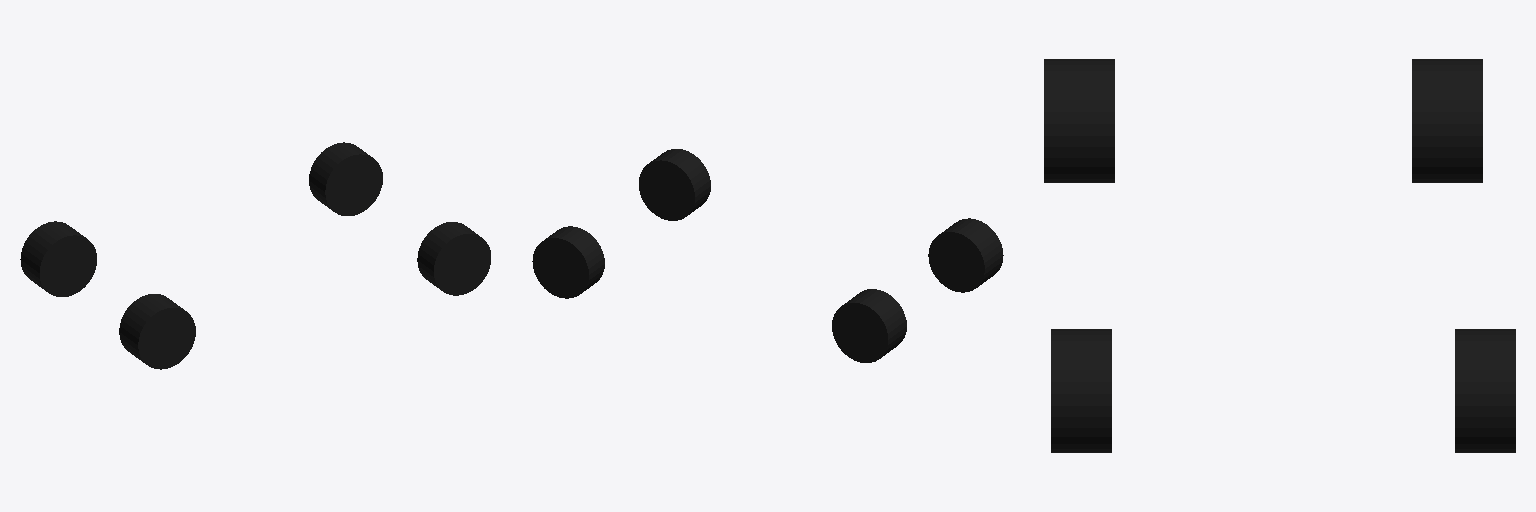
robot.urdf — R1:
<?xml version="1.0" encoding="utf-8"?>
<!-- This URDF was automatically created by SolidWorks to URDF Exporter and then extended for ROS/Gazebo simulation. -->
<robot name="R1">
  <link name="base_link">
    <inertial>
      <origin xyz="0.02 0.0 0.12" rpy="0 0 0" />
      <mass value="38.0603057004842" />
      <inertia
        ixx="0.70"
        ixy="0.0"
        ixz="0.0"
        iyy="1.10"
        iyz="0.0"
        izz="0.95" />
    </inertial>
    <visual>
      <origin xyz="0 0 0" rpy="0 0 3.14159265359" />
      <geometry>
        <mesh filename="package://zebrat/urdf/meshes/base_link.stl" />
      </geometry>
      <material name="">
        <color rgba="0.792156862745098 0.819607843137255 0.933333333333333 1" />
      </material>
    </visual>
    <collision>
      <origin xyz="0.02 0 0.17" rpy="0 0 0" />
      <geometry>
        <box size="0.50 0.16 0.22" />
      </geometry>
    </collision>
  </link>

  <link name="front_left_steering_link">
    <inertial>
      <origin xyz="0 0 -0.020375" rpy="0 0 0" />
      <mass value="0.30" />
      <inertia ixx="2e-4" ixy="0" ixz="0" iyy="2e-4" iyz="0" izz="2e-4" />
    </inertial>
  </link>

  <link name="front_right_steering_link">
    <inertial>
      <origin xyz="0 0 -0.020375" rpy="0 0 0" />
      <mass value="0.30" />
      <inertia ixx="2e-4" ixy="0" ixz="0" iyy="2e-4" iyz="0" izz="2e-4" />
    </inertial>
  </link>

  <link name="Empty_Link1">
    <inertial>
      <origin xyz="0 0 0" rpy="0 0 0" />
      <mass value="0.102007563940439" />
      <inertia
        ixx="6.03197633111551E-05"
        ixy="-1.09650777535302E-10"
        ixz="7.71132214702415E-10"
        iyy="9.37857965039355E-05"
        iyz="9.81331506021422E-10"
        izz="6.03194335121187E-05" />
    </inertial>
    <visual>
      <origin xyz="0 0 0" rpy="1.57079632679 0 0" />
      <geometry>
        <cylinder radius="0.04075" length="0.040" />
      </geometry>
      <material name="">
        <color rgba="0.152941176470588 0.152941176470588 0.152941176470588 1" />
      </material>
    </visual>
    <collision>
      <origin xyz="0 0 0" rpy="1.57079632679 0 0" />
      <geometry>
        <cylinder radius="0.04075" length="0.040" />
      </geometry>
    </collision>
  </link>

  <joint name="front_left_steering_joint" type="revolute">
    <origin xyz="0.220127909860013 0.142085316479216 0.04075" rpy="0 0 0" />
    <parent link="base_link" />
    <child link="front_left_steering_link" />
    <axis xyz="0 0 1" />
    <limit lower="-0.6" upper="0.6" effort="30" velocity="4" />
    <dynamics damping="3.0" friction="0.2" />
  </joint>

  <joint name="front_left_wheel_joint" type="continuous">
    <origin xyz="0 0 -0.04075" rpy="0 0 0" />
    <parent link="front_left_steering_link" />
    <child link="Empty_Link1" />
    <axis xyz="0 1 0" />
    <limit effort="30" velocity="60" />
    <dynamics damping="0.50" friction="0.02" />
  </joint>

  <link name="Empty_Link2">
    <inertial>
      <origin xyz="0 0 0" rpy="0 0 0" />
      <mass value="0.102007476255524" />
      <inertia
        ixx="6.03196775650763E-05"
        ixy="-1.30454716001587E-10"
        ixz="8.2130239199344E-10"
        iyy="9.37857280988688E-05"
        iyz="9.77509097955072E-10"
        izz="6.03194264639649E-05" />
    </inertial>
    <visual>
      <origin xyz="0 0 0" rpy="1.57079632679 0 0" />
      <geometry>
        <cylinder radius="0.04075" length="0.040" />
      </geometry>
      <material name="">
        <color rgba="0.152941176470588 0.152941176470588 0.152941176470588 1" />
      </material>
    </visual>
    <collision>
      <origin xyz="0 0 0" rpy="1.57079632679 0 0" />
      <geometry>
        <cylinder radius="0.04075" length="0.040" />
      </geometry>
    </collision>
  </link>

  <joint name="front_right_steering_joint" type="revolute">
    <origin xyz="0.220127909860013 -0.122535316479216 0.04075" rpy="0 0 0" />
    <parent link="base_link" />
    <child link="front_right_steering_link" />
    <axis xyz="0 0 1" />
    <limit lower="-0.6" upper="0.6" effort="30" velocity="4" />
    <dynamics damping="3.0" friction="0.2" />
  </joint>

  <joint name="front_right_wheel_joint" type="continuous">
    <origin xyz="0 0 -0.04075" rpy="0 0 0" />
    <parent link="front_right_steering_link" />
    <child link="Empty_Link2" />
    <axis xyz="0 -1 0" />
    <limit effort="30" velocity="60" />
    <dynamics damping="0.50" friction="0.02" />
  </joint>

  <link name="Empty_Link3">
    <inertial>
      <origin xyz="3.76217621722574E-07 -0.00343116064614217 1.77734477486638E-07" rpy="0 0 0" />
      <mass value="0.130385211409052" />
      <inertia
        ixx="7.86812106003073E-05"
        ixy="5.53858346756479E-11"
        ixz="9.23581794342341E-08"
        iyy="0.000108048071855382"
        iyz="-1.15152881530515E-10"
        izz="7.82862361574103E-05" />
    </inertial>
    <visual>
      <origin xyz="0 -0.0010 0" rpy="1.57079632679 0 0" />
      <geometry>
        <cylinder radius="0.04075" length="0.0465" />
      </geometry>
      <material name="">
        <color rgba="0.152941176470588 0.152941176470588 0.152941176470588 1" />
      </material>
    </visual>
    <collision>
      <origin xyz="0 -0.0010 0" rpy="1.57079632679 0 0" />
      <geometry>
        <cylinder radius="0.04075" length="0.0465" />
      </geometry>
    </collision>
  </link>

  <joint name="rear_right_wheel_joint" type="continuous">
    <origin xyz="-0.19879978611665 -0.122535316479219 0.0" rpy="0 0 0" />
    <parent link="base_link" />
    <child link="Empty_Link3" />
    <axis xyz="0 -1 0" />
    <limit effort="20" velocity="20" />
    <dynamics damping="0.50" friction="0.02" />
  </joint>

  <link name="Empty_Link4">
    <inertial>
      <origin xyz="3.64091904681008E-07 0.000181544843160394 3.71723492477368E-07" rpy="0 0 0" />
      <mass value="0.130386181839137" />
      <inertia
        ixx="7.86817593166718E-05"
        ixy="7.73070482159629E-11"
        ixz="9.25265700656962E-08"
        iyy="0.00010804820646223"
        iyz="-1.16088106414147E-10"
        izz="7.82861601090754E-05" />
    </inertial>
    <visual>
      <origin xyz="0 -0.0020 0" rpy="1.57079632679 0 0" />
      <geometry>
        <cylinder radius="0.04075" length="0.0465" />
      </geometry>
      <material name="">
        <color rgba="0.152941176470588 0.152941176470588 0.152941176470588 1" />
      </material>
    </visual>
    <collision>
      <origin xyz="0 -0.0020 0" rpy="1.57079632679 0 0" />
      <geometry>
        <cylinder radius="0.04075" length="0.0465" />
      </geometry>
    </collision>
  </link>

  <joint name="rear_left_wheel_joint" type="continuous">
    <origin xyz="-0.19879978611665 0.119285316479219 0.0" rpy="0 0 0" />
    <parent link="base_link" />
    <child link="Empty_Link4" />
    <axis xyz="0 1 0" />
    <limit effort="20" velocity="20" />
    <dynamics damping="0.50" friction="0.02" />
  </joint>

  <link name="imu_link">
    <inertial>
      <origin xyz="0 0 0" rpy="0 0 0" />
      <mass value="0.01" />
      <inertia ixx="1e-5" ixy="0" ixz="0" iyy="1e-5" iyz="0" izz="1e-5" />
    </inertial>
  </link>

  <joint name="imu_joint" type="fixed">
    <origin xyz="0.02 0 0.22" rpy="0 0 0" />
    <parent link="base_link" />
    <child link="imu_link" />
  </joint>

  <link name="laser_link">
    <inertial>
      <origin xyz="0 0 0" rpy="0 0 0" />
      <mass value="0.05" />
      <inertia ixx="2e-5" ixy="0" ixz="0" iyy="2e-5" iyz="0" izz="2e-5" />
    </inertial>
  </link>

  <joint name="laser_joint" type="fixed">
    <origin xyz="0.34 0 0.36" rpy="0 0 0" />
    <parent link="base_link" />
    <child link="laser_link" />
  </joint>

  <link name="camera_link">
    <inertial>
      <origin xyz="0 0 0" rpy="0 0 0" />
      <mass value="0.05" />
      <inertia ixx="2e-5" ixy="0" ixz="0" iyy="2e-5" iyz="0" izz="2e-5" />
    </inertial>
  </link>

  <joint name="camera_joint" type="fixed">
    <origin xyz="0.30 0 0.28" rpy="0 0 0" />
    <parent link="base_link" />
    <child link="camera_link" />
  </joint>

  <link name="camera_optical_link" />

  <joint name="camera_optical_joint" type="fixed">
    <origin xyz="0 0 0" rpy="-1.57079632679 0 -1.57079632679" />
    <parent link="camera_link" />
    <child link="camera_optical_link" />
  </joint>

  <gazebo reference="base_link">
    <material>Gazebo/White</material>
    <mu1>0.8</mu1>
    <mu2>0.8</mu2>
    <slip1>0.10</slip1>
    <slip2>0.10</slip2>
    <kp>30000.0</kp>
    <kd>20.0</kd>
  </gazebo>

  <gazebo reference="front_left_steering_link">
    <material>Gazebo/Black</material>
  </gazebo>

  <gazebo reference="front_right_steering_link">
    <material>Gazebo/Black</material>
  </gazebo>

  <gazebo reference="Empty_Link1">
    <material>Gazebo/Black</material>
    <mu1>8.0</mu1>
    <mu2>8.0</mu2>
    <fdir1>1 0 0</fdir1>
    <slip1>0.0</slip1>
    <slip2>0.0</slip2>
    <kp>50000.0</kp>
    <kd>20.0</kd>
  </gazebo>

  <gazebo reference="Empty_Link2">
    <material>Gazebo/Black</material>
    <mu1>8.0</mu1>
    <mu2>8.0</mu2>
    <fdir1>1 0 0</fdir1>
    <slip1>0.0</slip1>
    <slip2>0.0</slip2>
    <kp>50000.0</kp>
    <kd>20.0</kd>
  </gazebo>

  <gazebo reference="Empty_Link3">
    <material>Gazebo/Black</material>
    <mu1>8.0</mu1>
    <mu2>8.0</mu2>
    <fdir1>1 0 0</fdir1>
    <slip1>0.0</slip1>
    <slip2>0.0</slip2>
    <kp>50000.0</kp>
    <kd>20.0</kd>
  </gazebo>

  <gazebo reference="Empty_Link4">
    <material>Gazebo/Black</material>
    <mu1>8.0</mu1>
    <mu2>8.0</mu2>
    <fdir1>1 0 0</fdir1>
    <slip1>0.0</slip1>
    <slip2>0.0</slip2>
    <kp>50000.0</kp>
    <kd>20.0</kd>
  </gazebo>

  <gazebo reference="laser_link">
    <sensor name="front_laser" type="ray">
      <always_on>true</always_on>
      <update_rate>15.0</update_rate>
      <visualize>false</visualize>
      <pose>0 0 0 0 0 0</pose>
      <ray>
        <scan>
          <horizontal>
            <samples>1080</samples>
            <resolution>1</resolution>
            <min_angle>-3.14159</min_angle>
            <max_angle>3.14159</max_angle>
          </horizontal>
        </scan>
        <range>
          <min>0.12</min>
          <max>8.0</max>
          <resolution>0.01</resolution>
        </range>
        <noise>
          <type>gaussian</type>
          <mean>0.0</mean>
          <stddev>0.01</stddev>
        </noise>
      </ray>
      <plugin name="laser_plugin" filename="libgazebo_ros_laser.so">
        <topicName>scan</topicName>
        <frameName>laser_link</frameName>
      </plugin>
    </sensor>
  </gazebo>

  <gazebo reference="imu_link">
    <sensor name="imu_sensor" type="imu">
      <always_on>true</always_on>
      <update_rate>50.0</update_rate>
      <plugin name="imu_plugin" filename="libgazebo_ros_imu_sensor.so">
        <alwaysOn>true</alwaysOn>
        <bodyName>imu_link</bodyName>
        <topicName>imu/data</topicName>
        <frameName>imu_link</frameName>
        <gaussianNoise>0.002</gaussianNoise>
      </plugin>
    </sensor>
  </gazebo>

  <gazebo reference="camera_link">
    <sensor name="front_camera" type="depth">
      <always_on>true</always_on>
      <update_rate>15.0</update_rate>
      <visualize>false</visualize>
      <camera>
        <horizontal_fov>1.3962634</horizontal_fov>
        <image>
          <width>640</width>
          <height>480</height>
          <format>R8G8B8</format>
        </image>
        <clip>
          <near>0.05</near>
          <far>20.0</far>
        </clip>
        <depth_camera />
      </camera>
      <plugin name="camera_plugin" filename="libgazebo_ros_openni_kinect.so">
        <alwaysOn>true</alwaysOn>
        <updateRate>15.0</updateRate>
        <baseline>0.2</baseline>
        <cameraName>front_camera</cameraName>
        <imageTopicName>rgb/image_raw</imageTopicName>
        <cameraInfoTopicName>rgb/camera_info</cameraInfoTopicName>
        <depthImageTopicName>depth/image_raw</depthImageTopicName>
        <depthImageCameraInfoTopicName>depth/camera_info</depthImageCameraInfoTopicName>
        <pointCloudTopicName>depth/points</pointCloudTopicName>
        <frameName>camera_optical_link</frameName>
        <hackBaseline>0.07</hackBaseline>
        <pointCloudCutoff>0.10</pointCloudCutoff>
        <pointCloudCutoffMax>8.0</pointCloudCutoffMax>
        <distortionK1>0.0</distortionK1>
        <distortionK2>0.0</distortionK2>
        <distortionK3>0.0</distortionK3>
        <distortionT1>0.0</distortionT1>
        <distortionT2>0.0</distortionT2>
        <CxPrime>0.0</CxPrime>
        <Cx>0.0</Cx>
        <Cy>0.0</Cy>
        <focalLength>0.0</focalLength>
      </plugin>
    </sensor>
  </gazebo>

  <transmission name="front_left_steering_transmission">
    <type>transmission_interface/SimpleTransmission</type>
    <joint name="front_left_steering_joint">
      <hardwareInterface>hardware_interface/PositionJointInterface</hardwareInterface>
    </joint>
    <actuator name="front_left_steering_motor">
      <mechanicalReduction>1</mechanicalReduction>
      <hardwareInterface>hardware_interface/PositionJointInterface</hardwareInterface>
    </actuator>
  </transmission>

  <transmission name="front_right_steering_transmission">
    <type>transmission_interface/SimpleTransmission</type>
    <joint name="front_right_steering_joint">
      <hardwareInterface>hardware_interface/PositionJointInterface</hardwareInterface>
    </joint>
    <actuator name="front_right_steering_motor">
      <mechanicalReduction>1</mechanicalReduction>
      <hardwareInterface>hardware_interface/PositionJointInterface</hardwareInterface>
    </actuator>
  </transmission>

  <transmission name="front_left_wheel_transmission">
    <type>transmission_interface/SimpleTransmission</type>
    <joint name="front_left_wheel_joint">
      <hardwareInterface>hardware_interface/VelocityJointInterface</hardwareInterface>
    </joint>
    <actuator name="front_left_wheel_motor">
      <mechanicalReduction>1</mechanicalReduction>
      <hardwareInterface>hardware_interface/VelocityJointInterface</hardwareInterface>
    </actuator>
  </transmission>

  <transmission name="front_right_wheel_transmission">
    <type>transmission_interface/SimpleTransmission</type>
    <joint name="front_right_wheel_joint">
      <hardwareInterface>hardware_interface/VelocityJointInterface</hardwareInterface>
    </joint>
    <actuator name="front_right_wheel_motor">
      <mechanicalReduction>1</mechanicalReduction>
      <hardwareInterface>hardware_interface/VelocityJointInterface</hardwareInterface>
    </actuator>
  </transmission>

  <transmission name="rear_left_wheel_transmission">
    <type>transmission_interface/SimpleTransmission</type>
    <joint name="rear_left_wheel_joint">
      <hardwareInterface>hardware_interface/VelocityJointInterface</hardwareInterface>
    </joint>
    <actuator name="rear_left_wheel_motor">
      <mechanicalReduction>1</mechanicalReduction>
      <hardwareInterface>hardware_interface/VelocityJointInterface</hardwareInterface>
    </actuator>
  </transmission>

  <transmission name="rear_right_wheel_transmission">
    <type>transmission_interface/SimpleTransmission</type>
    <joint name="rear_right_wheel_joint">
      <hardwareInterface>hardware_interface/VelocityJointInterface</hardwareInterface>
    </joint>
    <actuator name="rear_right_wheel_motor">
      <mechanicalReduction>1</mechanicalReduction>
      <hardwareInterface>hardware_interface/VelocityJointInterface</hardwareInterface>
    </actuator>
  </transmission>

  <gazebo>
    <plugin name="ground_truth_odom" filename="libgazebo_ros_p3d.so">
      <alwaysOn>true</alwaysOn>
      <updateRate>50.0</updateRate>
      <bodyName>base_link</bodyName>
      <topicName>ground_truth_odom</topicName>
      <frameName>world</frameName>
      <localTwist>true</localTwist>
      <xyzOffset>0 0 0</xyzOffset>
      <rpyOffset>0 0 0</rpyOffset>
      <gaussianNoise>0.0</gaussianNoise>
    </plugin>
  </gazebo>

  <gazebo>
    <plugin name="gazebo_ros_control" filename="libgazebo_ros_control.so">
      <robotNamespace>/r1</robotNamespace>
      <robotParam>/robot_description_gazebo</robotParam>
      <robotSimType>gazebo_ros_control/DefaultRobotHWSim</robotSimType>
    </plugin>
  </gazebo>
</robot>

--- Render facts (derived) ---
Views: 3 orthographic renders of the robot side by side, from view 1: azimuth 30°, elevation 25°; view 2: azimuth 150°, elevation 25°; view 3: azimuth 270°, elevation 25°.
Robot: R1 — 11 links, 10 joints (2 revolute, 4 continuous, 4 fixed); root link base_link; default pose: all joints at 0.
Links seen in each view (by area): view 1: Empty_Link3, Empty_Link4, Empty_Link1, Empty_Link2; view 2: Empty_Link4, Empty_Link3, Empty_Link2, Empty_Link1; view 3: Empty_Link3, Empty_Link4, Empty_Link1, Empty_Link2.
Link boxes in pixels (<box>): Empty_Link3: <box>119,294,195,369</box>; Empty_Link4: <box>20,221,96,296</box>; Empty_Link1: <box>309,142,382,215</box>; Empty_Link2: <box>417,222,490,295</box>; Empty_Link4: <box>832,289,906,362</box>; Empty_Link3: <box>928,218,1003,292</box>; Empty_Link2: <box>639,149,710,220</box>; Empty_Link1: <box>532,226,604,298</box>; Empty_Link3: <box>1044,59,1114,182</box>; Empty_Link4: <box>1412,59,1482,182</box>; Empty_Link1: <box>1455,329,1515,452</box>; Empty_Link2: <box>1051,329,1111,452</box>.
Bounding box of the posed robot: 0.5004 × 0.3089 × 0.0815 m (x, y, z).
0 mesh visuals loaded from 1 distinct referenced files (none loaded); not drawn: 1 (reference not matched to a file when rendering).
